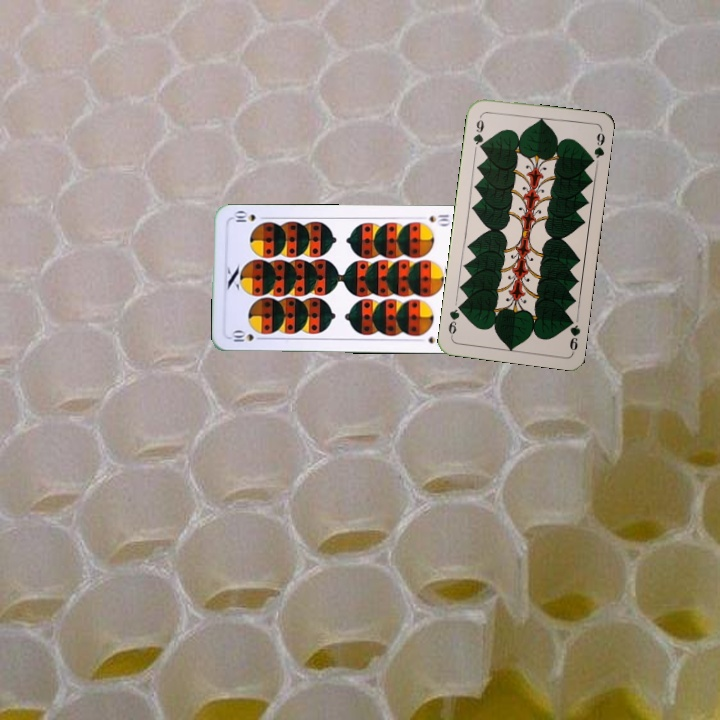G9: (564, 313, 583, 355), (469, 116, 487, 153)
S10: (226, 328, 267, 344), (424, 210, 452, 228)
